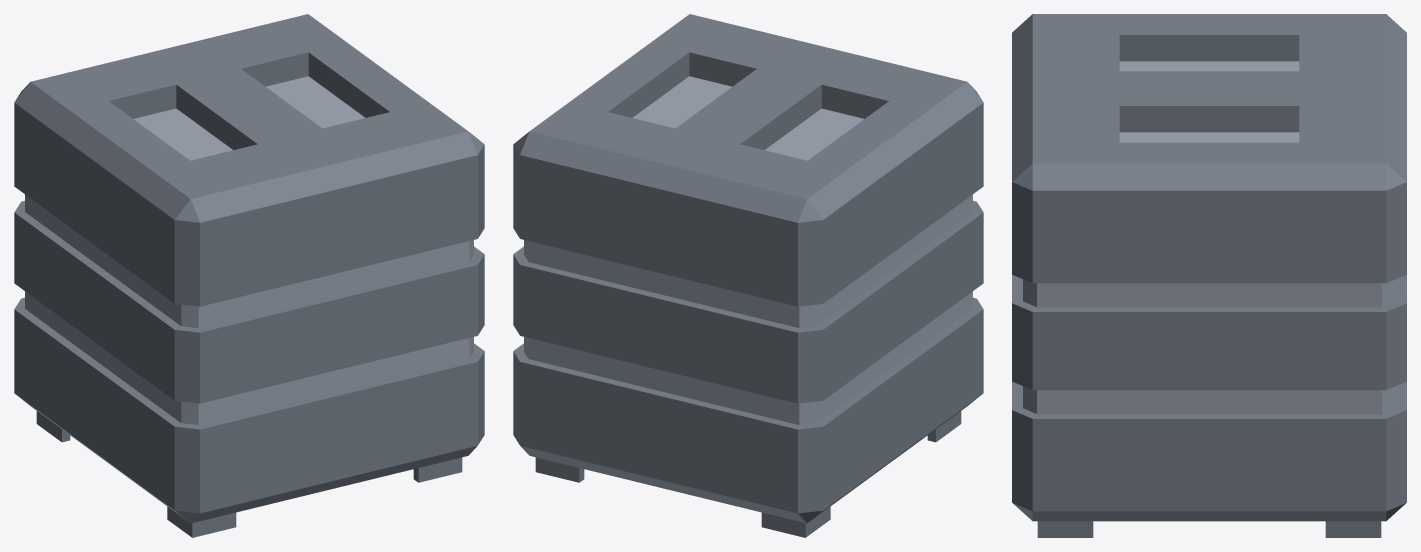
Rendered from Cube_023_geometry-panic-factory.fbx.
The picture shows the model from 3 angles, left to right: view 1: azimuth 30°, elevation 25°; view 2: azimuth 150°, elevation 25°; view 3: azimuth 270°, elevation 25°; orthographic projection. The views are drawn at different scales.
Parts seen in each view (by area): view 1: Cube.023.geometry-panic-factory; view 2: Cube.023.geometry-panic-factory; view 3: Cube.023.geometry-panic-factory.
Boxes of the visible parts, x1,y1,x2,y2 form: Cube.023.geometry-panic-factory: [14, 14, 484, 537]; Cube.023.geometry-panic-factory: [513, 14, 983, 537]; Cube.023.geometry-panic-factory: [1012, 14, 1406, 537].
Bounding box in the file's own units: 0.95 × 1 × 0.95.
